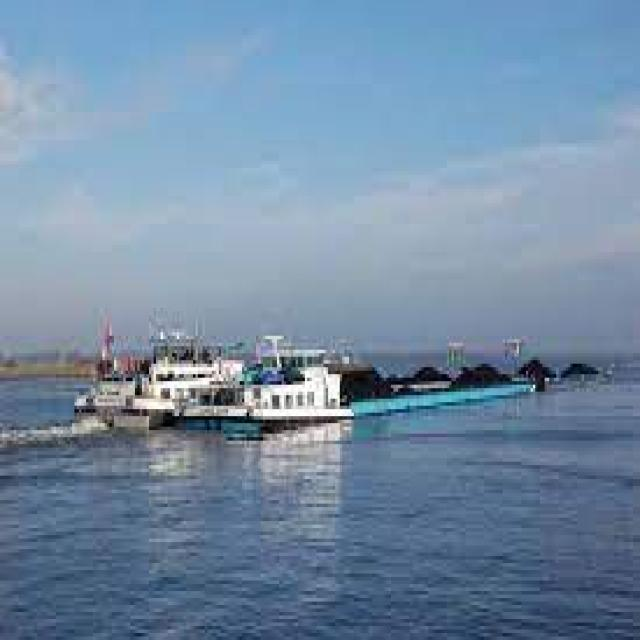fishing boat: (104, 326, 349, 458)
